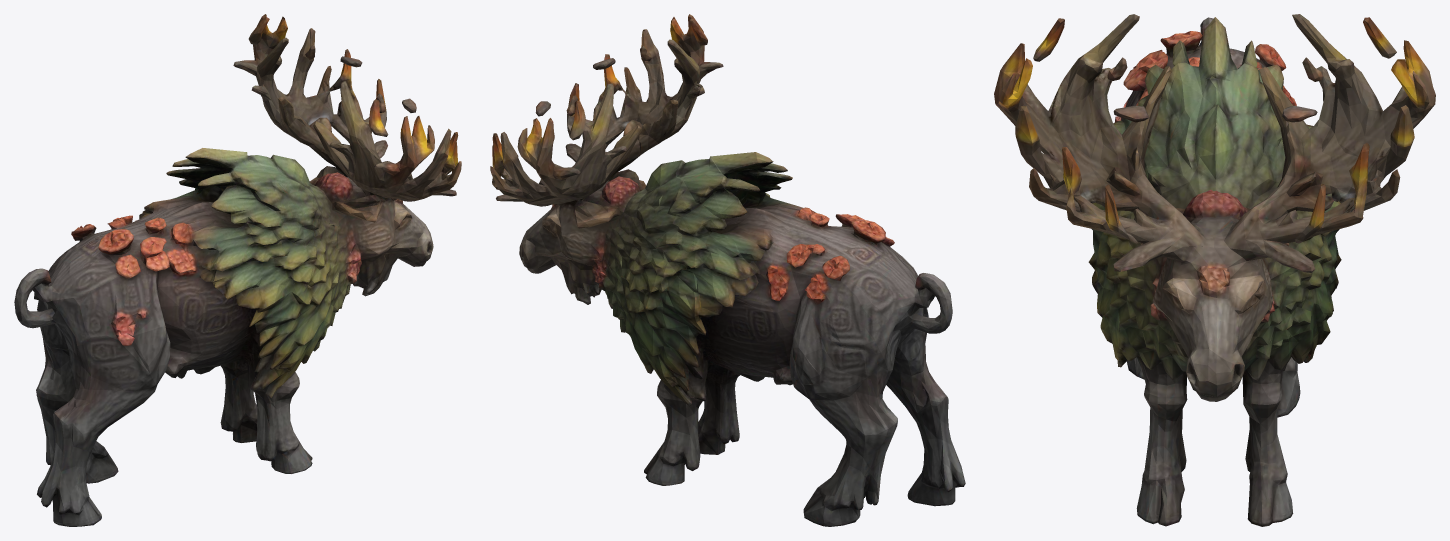
The model's file is bramblehoof__greenwarden.glb.
3 views of the same model, side by side, from view 1: azimuth 30°, elevation 25°; view 2: azimuth 150°, elevation 25°; view 3: azimuth 270°, elevation 25° (orthographic). The views are drawn at different scales.
Parts seen in each view (by area): view 1: world; view 2: world; view 3: world.
Boxes of the visible parts, x1,y1,x2,y2 form: world: [14, 14, 461, 526]; world: [490, 14, 965, 526]; world: [994, 14, 1435, 526].
Size of the model in its own units: 0.9994 by 0.8755 by 0.6625.
Materials: 1 (1 with a texture image).
